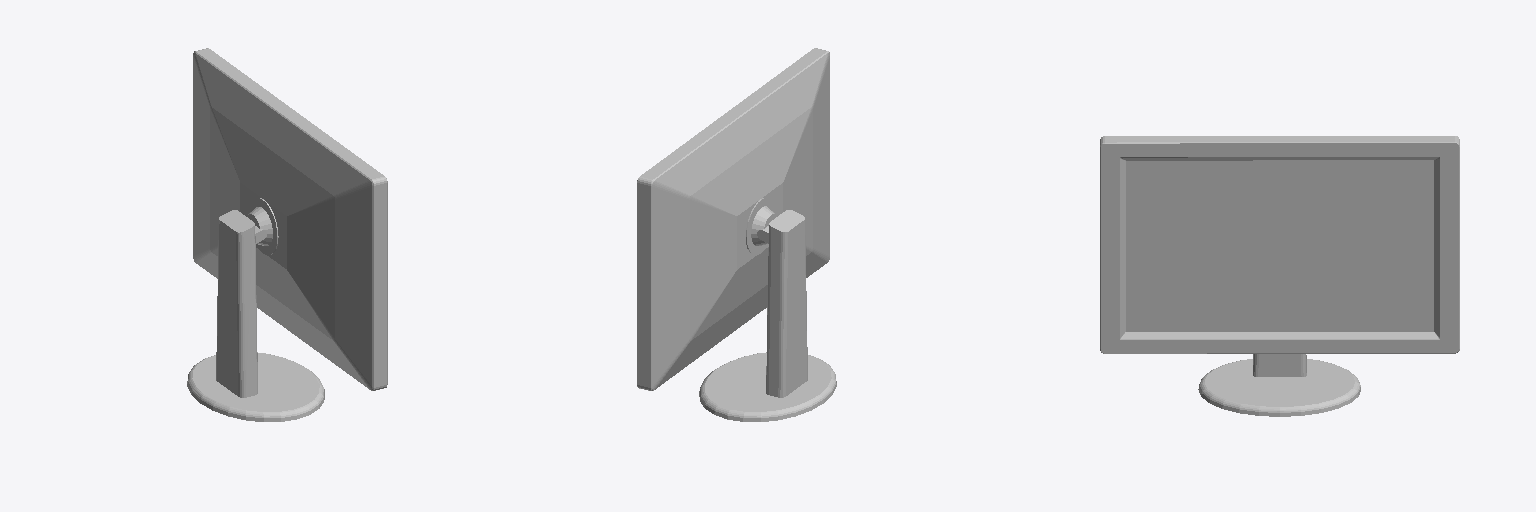
The model's file is DisplayScreen.obj.
3 renders of one model, left to right at view 1: azimuth 30°, elevation 25°; view 2: azimuth 150°, elevation 25°; view 3: azimuth 270°, elevation 25°, orthographic.
Parts seen in each view (by area): view 1: node_id5.008_mesh_id6.000; view 2: node_id5.008_mesh_id6.000; view 3: node_id5.008_mesh_id6.000.
Boxes of the visible parts, x1,y1,x2,y2 form: node_id5.008_mesh_id6.000: [187, 48, 387, 421]; node_id5.008_mesh_id6.000: [637, 48, 836, 421]; node_id5.008_mesh_id6.000: [1100, 136, 1459, 416].
Size of the model in its own units: 0.3917 by 0.8953 by 1.09.